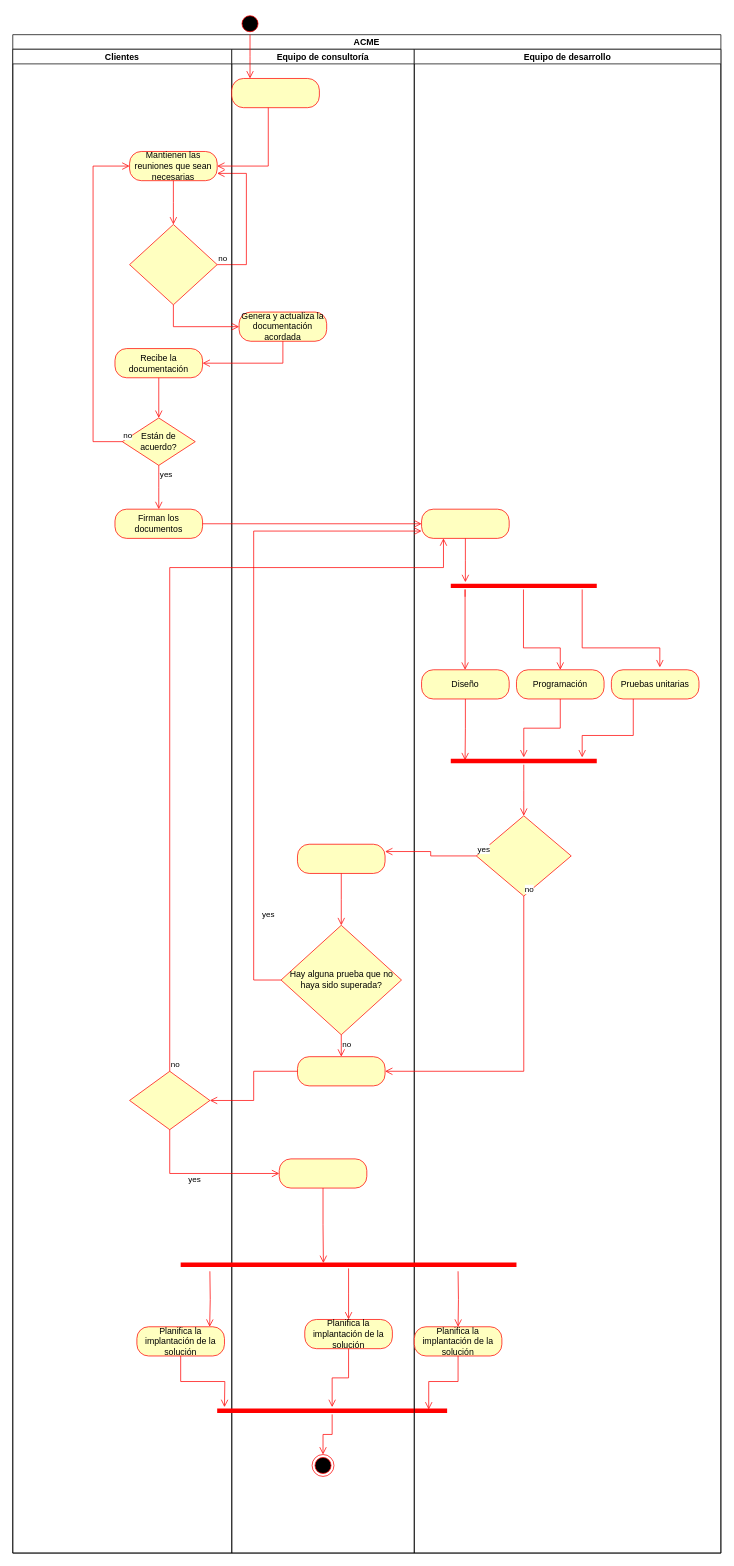
Image size: 734x1566. Some labels were removed from this diagram. Each missing label, with the centre of its shape:
"Dan su visto bueno?" goes at (x=169, y=1100).
"Formación de usuarios" goes at (x=322, y=1173).
"Hace pruebas funcionales" goes at (x=341, y=858).
"Han sido especificados los requerimientos?" goes at (x=173, y=264).
"Presentan el prototipo" goes at (x=341, y=1071).
"Quedan funcionalidades por probar?" goes at (x=523, y=855).
"Realiza análisis" goes at (x=275, y=93).
"Reciben la documentación" goes at (x=465, y=523).
